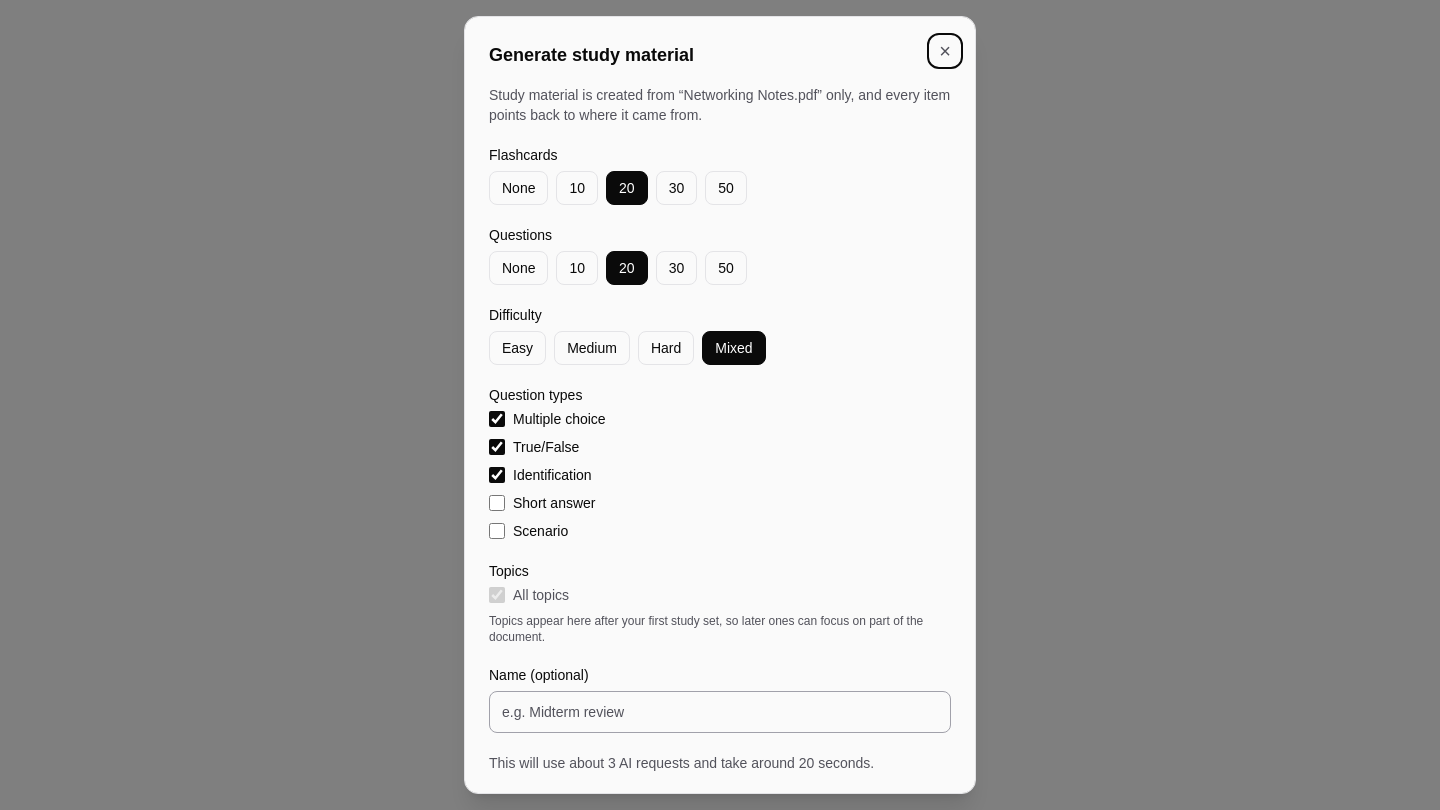
Test case: GenerateModal › unchecking every question type blocks submit with a specific message
What coordinates should you click on to do the following:
click the checkbox labelled "Multiple choice"
I would click on:
 (497, 419)
Its box is [489, 411, 505, 427].
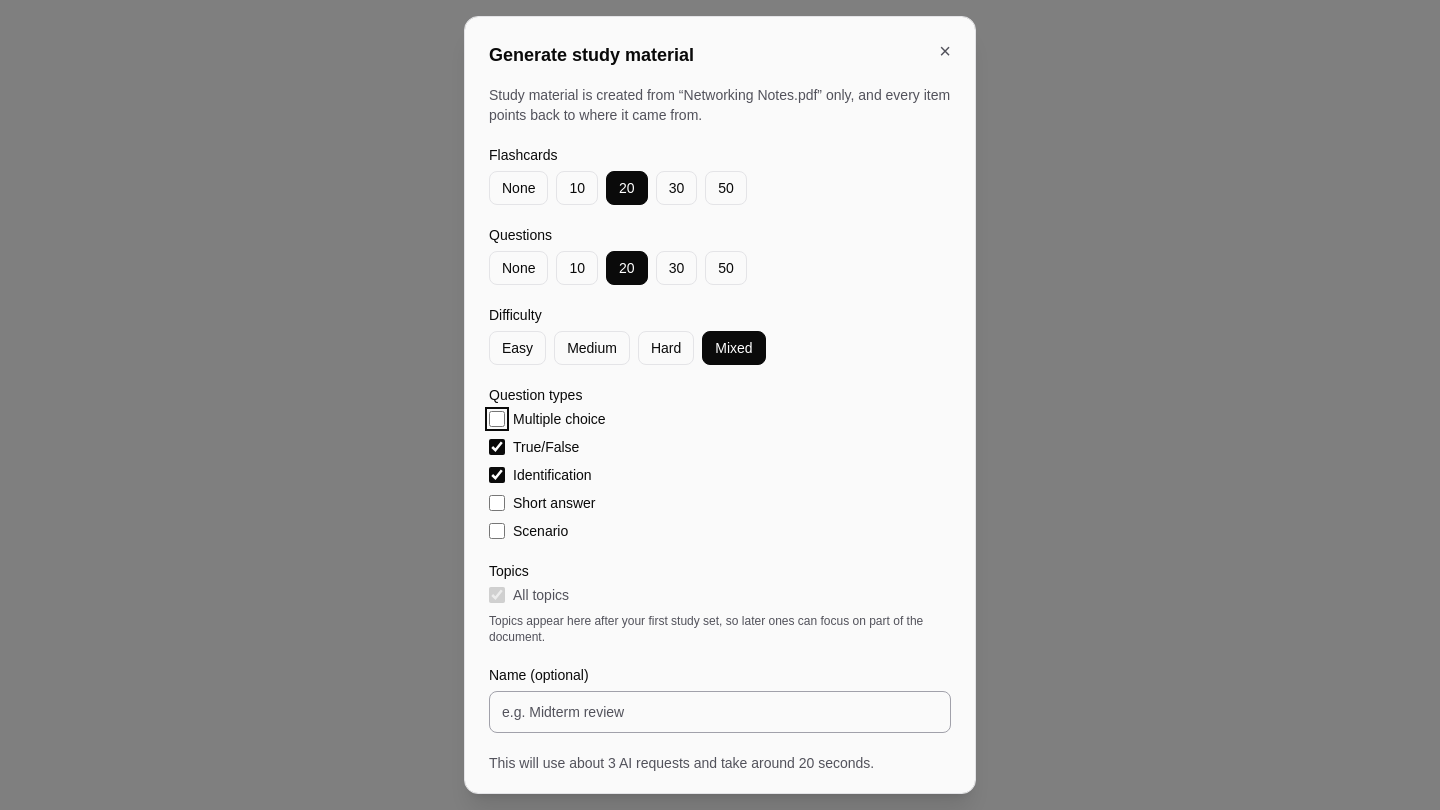
What coordinates should you click on to do the following:
click the checkbox labelled "True/False"
I would click on:
 (497, 447)
Its box is [489, 439, 505, 455].
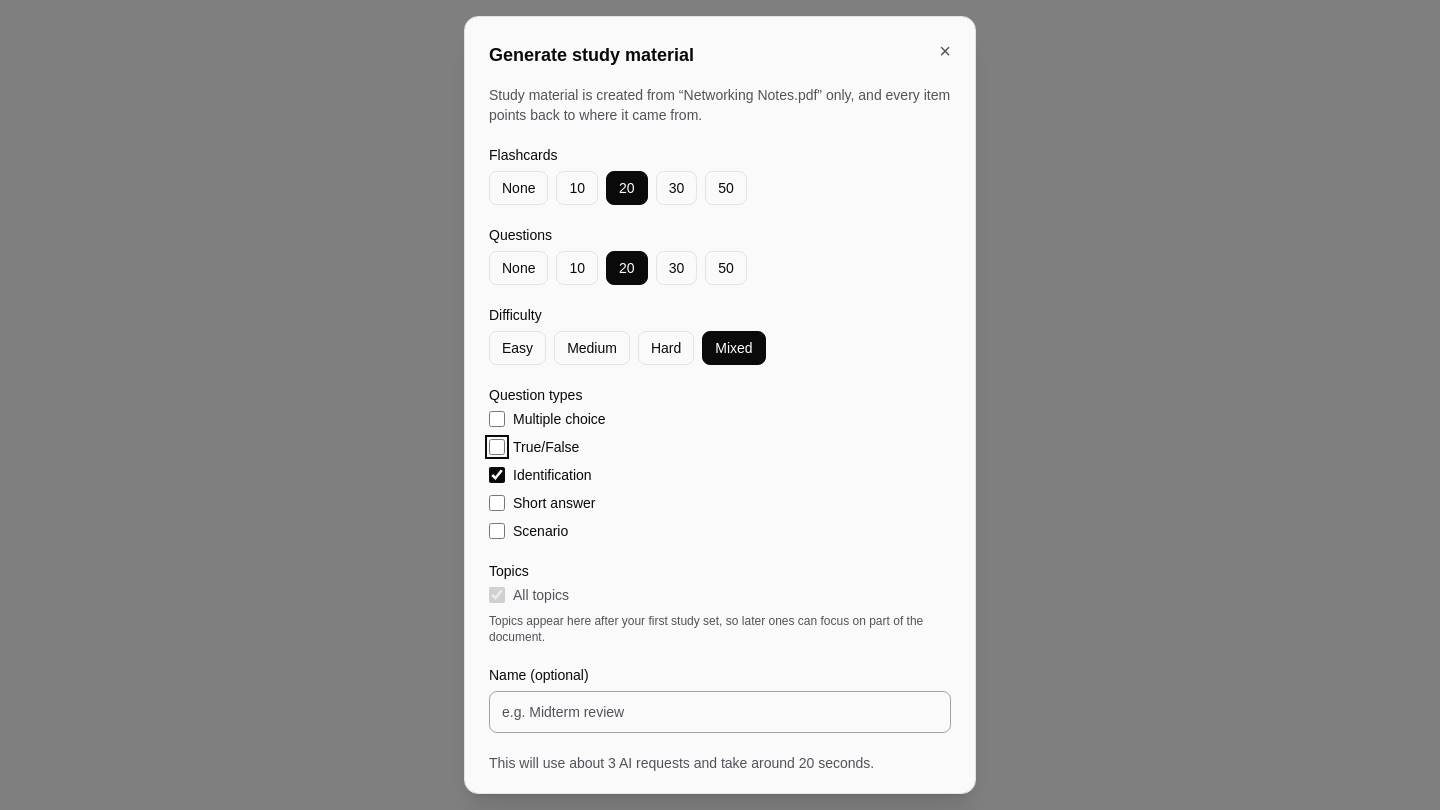
What coordinates should you click on to do the following:
click the checkbox labelled "Identification"
I would click on:
 (497, 475)
Its box is [489, 467, 505, 483].
(page scrolled)
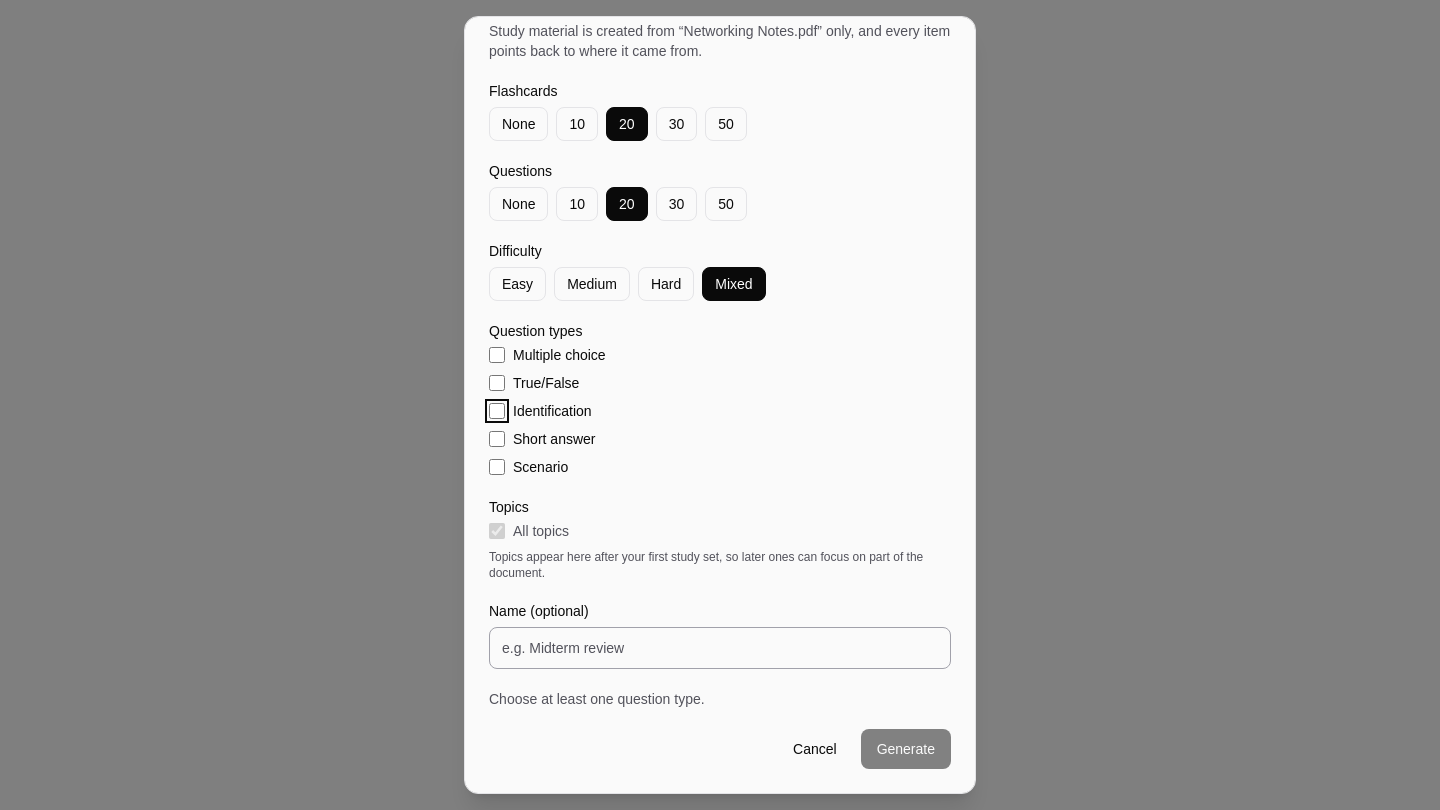
Expected: the button "Generate" is disabled, [861, 729, 951, 769]
Expected: the text "Choose at least one question type." is shown, [489, 691, 705, 707]
